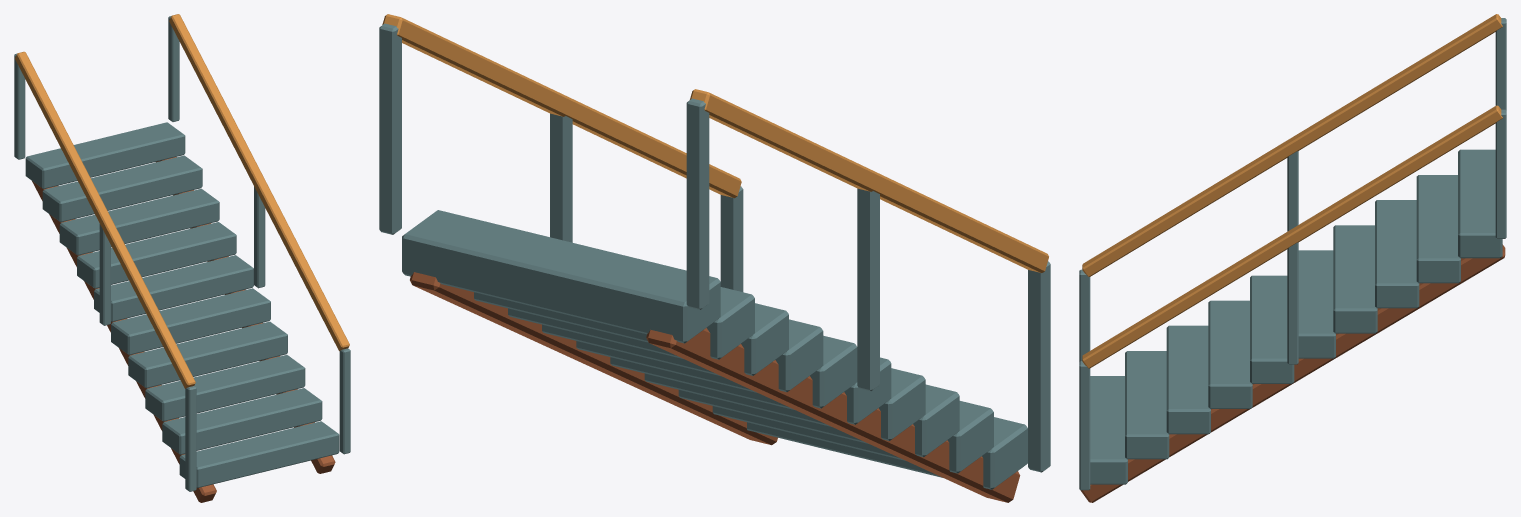
Rendered from Stairs_2m.glb.
3 views of the same model, side by side, from view 1: azimuth 30°, elevation 25°; view 2: azimuth 150°, elevation 25°; view 3: azimuth 270°, elevation 25° (orthographic). The views are drawn at different scales.
Visible parts, largest first — view 1: Stairs_2m; view 2: Stairs_2m; view 3: Stairs_2m.
Part boxes in pixels (<box>): Stairs_2m: <box>14,14,350,502</box>; Stairs_2m: <box>379,14,1050,502</box>; Stairs_2m: <box>1079,14,1506,502</box>.
Bounding box in the file's own units: 1.65 × 3.2 × 3.08.
